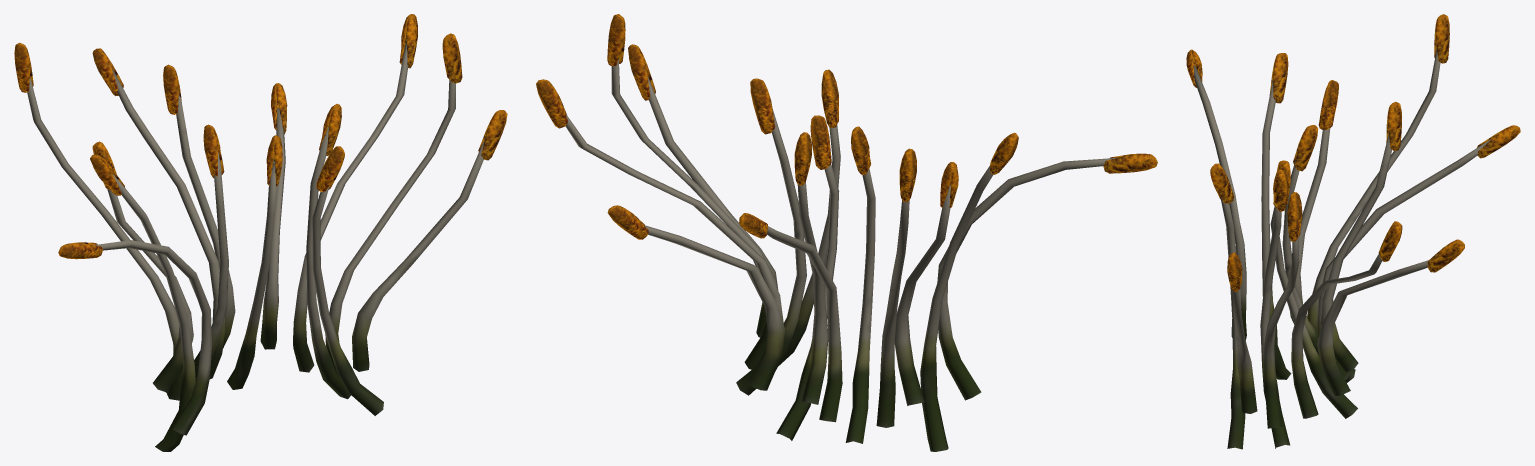
The model's file is Filament_02.gltf.
3 views of the same model, side by side, from view 1: azimuth 30°, elevation 25°; view 2: azimuth 150°, elevation 25°; view 3: azimuth 270°, elevation 25° (orthographic). The views are drawn at different scales.
Visible parts, largest first — view 1: Filament_02; view 2: Filament_02; view 3: Filament_02.
Boxes of the visible parts, <box> form: Filament_02: <box>14,14,507,451</box>; Filament_02: <box>536,14,1157,451</box>; Filament_02: <box>1186,14,1520,449</box>.
Bounding box in the file's own units: 13.82 × 10.09 × 9.08.
2 materials, 2 textured.
